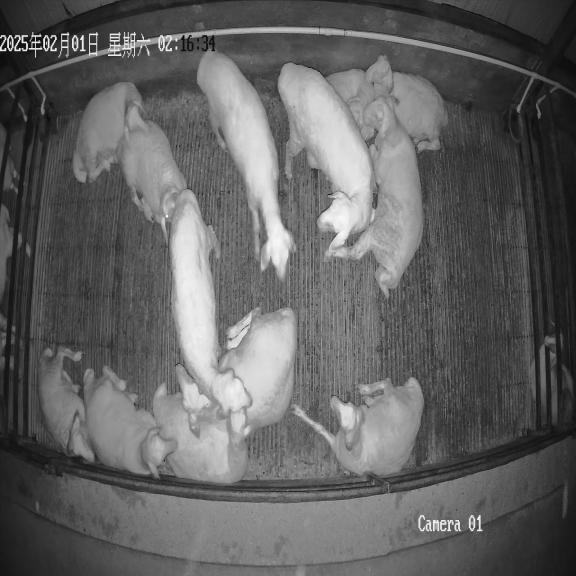lying: (325, 96, 423, 298), (176, 308, 297, 436), (291, 378, 424, 476), (84, 366, 177, 478), (153, 384, 251, 484), (117, 120, 187, 235), (366, 55, 448, 152), (72, 82, 149, 183), (37, 346, 95, 462), (326, 69, 384, 141)
stand: (197, 52, 296, 282), (168, 189, 252, 414), (278, 62, 374, 258)
